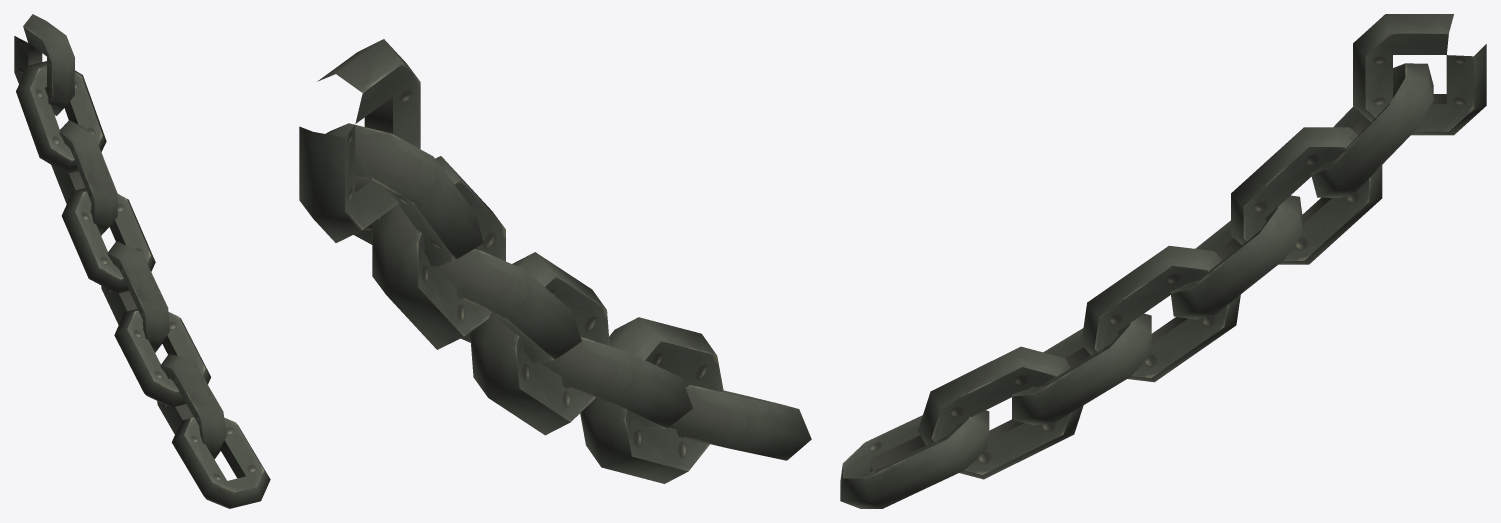
The model's file is chain_rail_01.glb.
3 views of the same model, side by side, from view 1: azimuth 30°, elevation 25°; view 2: azimuth 150°, elevation 25°; view 3: azimuth 270°, elevation 25° (orthographic). The views are drawn at different scales.
Visible parts, largest first — view 1: castle_fire.chain_rail_01-Mesh[0]; view 2: castle_fire.chain_rail_01-Mesh[0]; view 3: castle_fire.chain_rail_01-Mesh[0].
Part boxes in pixels (x1=…): castle_fire.chain_rail_01-Mesh[0]: x1=14, y1=14, x2=270, y2=508; castle_fire.chain_rail_01-Mesh[0]: x1=299, y1=39, x2=811, y2=483; castle_fire.chain_rail_01-Mesh[0]: x1=840, y1=14, x2=1486, y2=508.
Size of the model in its own units: 0.7761 by 3.77 by 4.53.
Materials: 1 (1 with a texture image).
